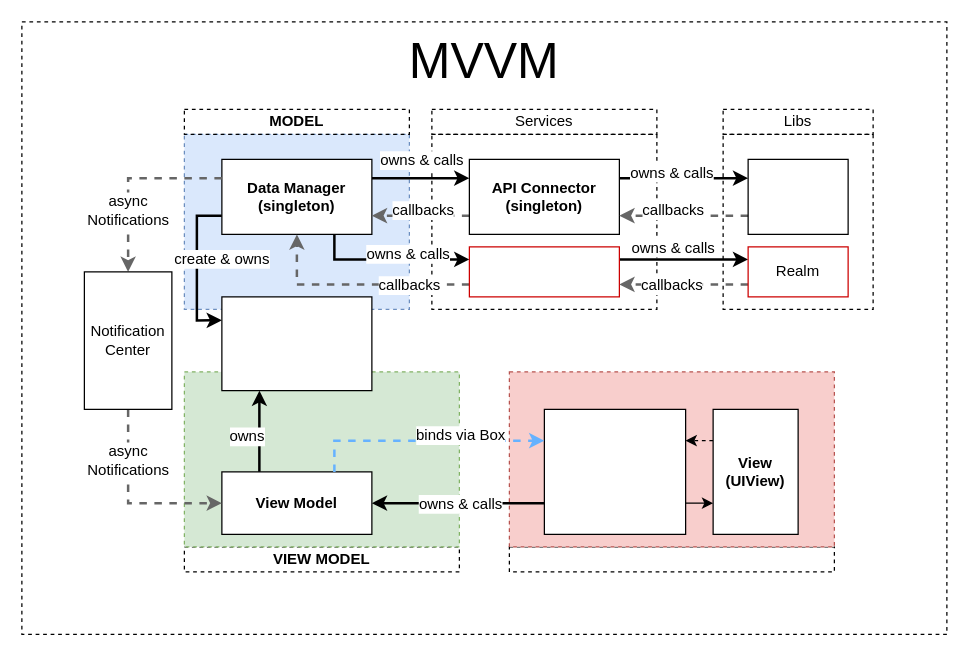
Some shapes in this 969 by 656 pixel diagram are drawn without their labels. The shapes that lost their labels are listed below. From the top down, each one's box as (x1, y1, x2, y2) in pixels, then its label:
(747, 158, 848, 234): Alamofire
(468, 246, 619, 297): Local DB Connector (singleton)
(221, 296, 372, 391): Data Model
(543, 408, 686, 534): ViewController (UIViewController)
(508, 546, 834, 572): VIEW
